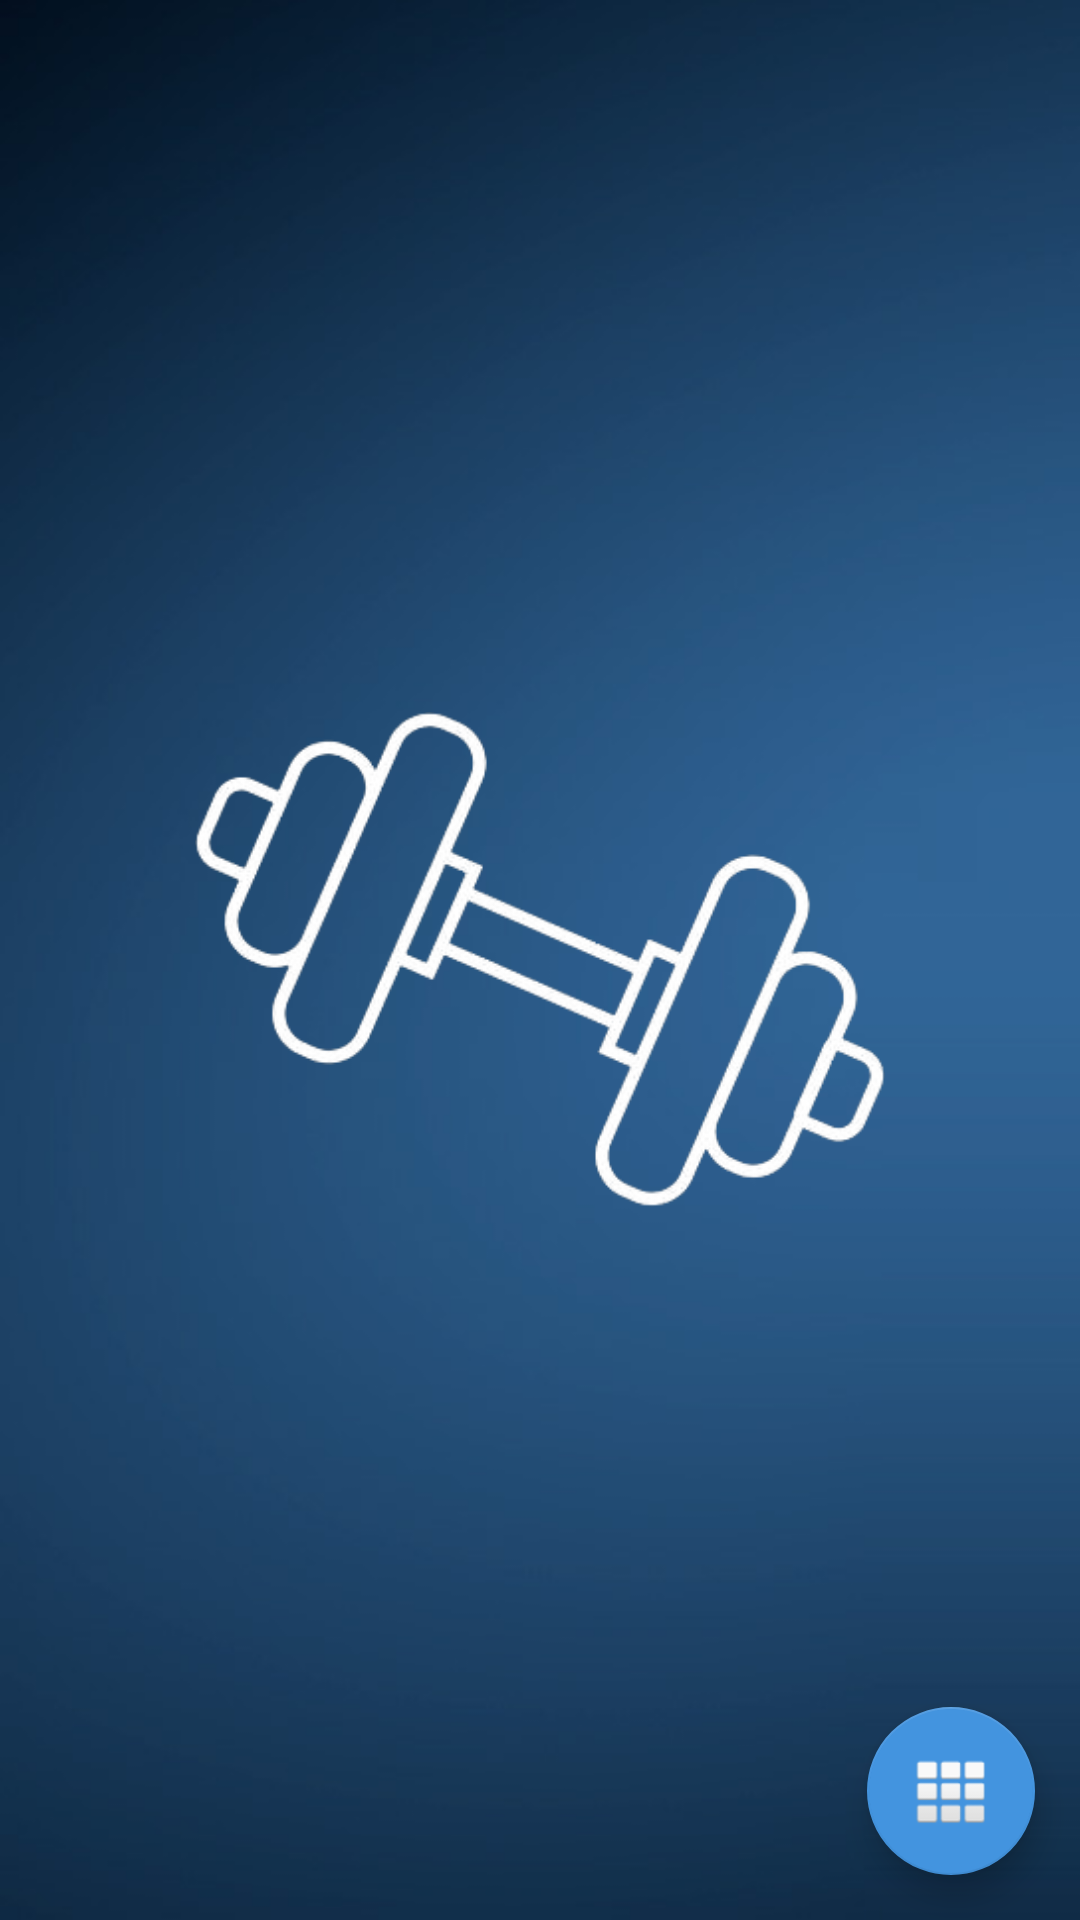

Locate icon controls on the screen. Image size 1080×1920, boxes as (x1, y1, x2, y2).
dialer: (867, 1707, 1035, 1875)
